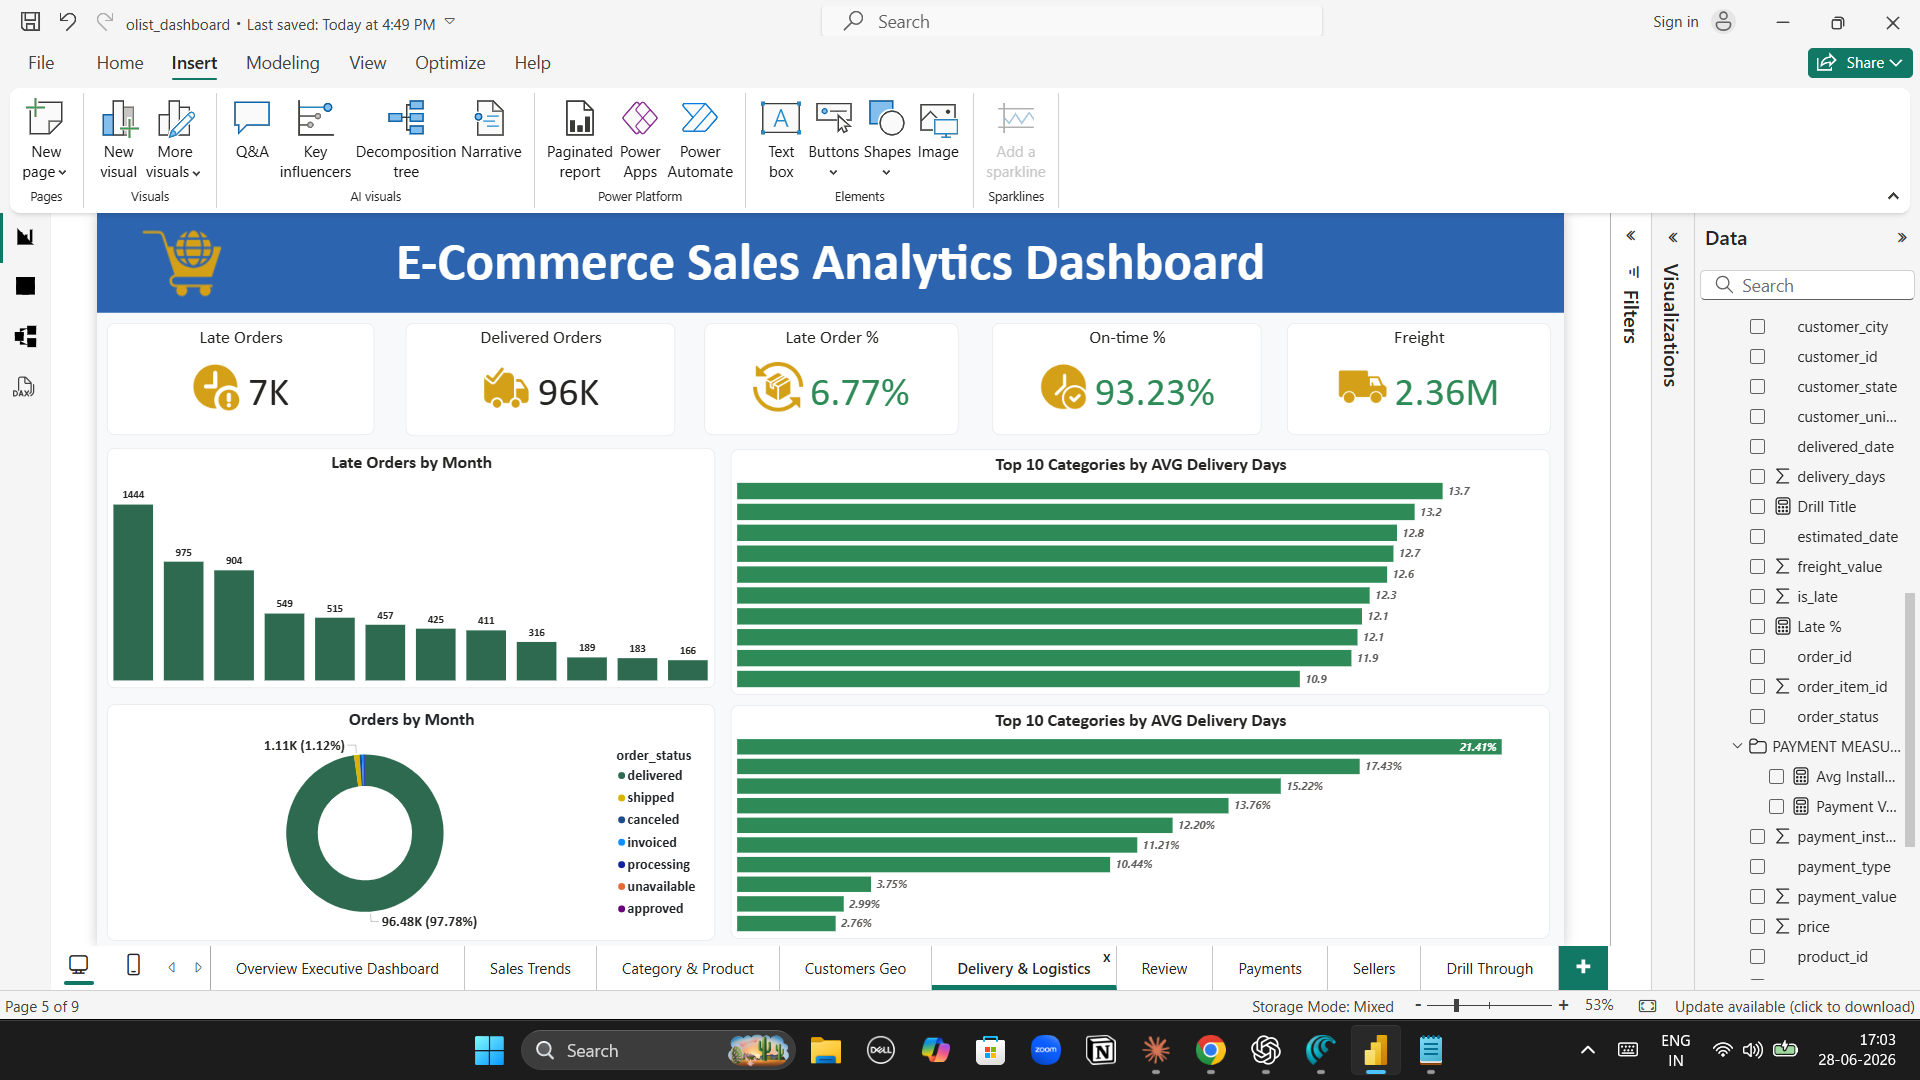

Layout of this report page (visuals, bound fields, positions):
{"tool":"powerbi","page":{"name":"Delivery & Logistics","canvas":[2200,1100],"ordinal":4},"visuals":[{"type":"cardVisual","title":"Late Orders","fields":{"Data":["public bi_fact_sales.Late Orders"]},"box":[15.9,165.9,400.5,167.6],"z":0},{"type":"cardVisual","title":"Delivered Orders","fields":{"Data":["public bi_fact_sales.Delivered Orders"]},"box":[462.3,165.9,404.1,169.4],"z":1000},{"type":"cardVisual","title":"On-time %","fields":{"Data":["public bi_fact_sales.On-time %"]},"box":[1342.8,165.9,404.1,167.6],"z":2000},{"type":"cardVisual","title":"Freight","fields":{"Data":["public bi_fact_sales.Freight"]},"box":[1783.9,165.9,395.3,167.6],"z":3000},{"type":"clusteredColumnChart","fields":{"Y":["public bi_fact_sales.Late Orders"],"Category":["DimDate.Month"]},"box":[15.9,352.9,912.3,360],"z":4000},{"type":"donutChart","title":"Orders by Month","fields":{"Category":["public bi_fact_sales.order_status"],"Y":["public bi_fact_sales.Orders"]},"box":[15.9,735.8,912.3,354.7],"z":5000},{"type":"clusteredBarChart","title":"Top 10 Categories by AVG Delivery Days","fields":{"Category":["public bi_fact_sales.category"],"Y":["public bi_fact_sales.Avg Delivery Days"]},"box":[951.3,353.7,1229.1,367.7],"z":6000},{"type":"textbox","box":[0,0,2200.8,150],"z":7000},{"type":"image","box":[63.7,9.4,127.5,131.2],"z":8000},{"type":"clusteredBarChart","title":"Top 10 Categories by AVG Delivery Days","fields":{"Category":["public bi_fact_sales.customer_state"],"Y":["public bi_fact_sales.Late %"]},"box":[951.1,739.3,1228.1,349.4],"z":9000},{"type":"cardVisual","title":"Late Order %","fields":{"Data":["public bi_fact_sales.Late %"]},"box":[910.5,165.9,381.1,167.6],"z":10000}]}

Visuals, with their boxes on the page's 2200x1100 design canvas (x1, y1, x2, y2). These are canvas units, not pixel positions in the 1920x1080 screenshot, which may show the page scaled, cropped or inside an application window:
"Late Orders" cardVisual: (left=16, top=166, right=416, bottom=334)
"Delivered Orders" cardVisual: (left=462, top=166, right=866, bottom=335)
"On-time %" cardVisual: (left=1343, top=166, right=1747, bottom=334)
"Freight" cardVisual: (left=1784, top=166, right=2179, bottom=334)
clusteredColumnChart - public bi_fact_sales.Late Orders x DimDate.Month: (left=16, top=353, right=928, bottom=713)
"Orders by Month" donutChart: (left=16, top=736, right=928, bottom=1090)
"Top 10 Categories by AVG Delivery Days" clusteredBarChart: (left=951, top=354, right=2180, bottom=721)
textbox: (left=0, top=0, right=2201, bottom=150)
image: (left=64, top=9, right=191, bottom=141)
"Top 10 Categories by AVG Delivery Days" clusteredBarChart: (left=951, top=739, right=2179, bottom=1089)
"Late Order %" cardVisual: (left=910, top=166, right=1292, bottom=334)
